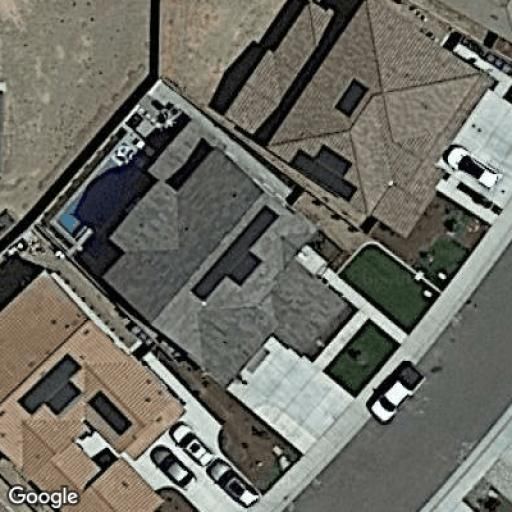solar-panel: (189, 205, 281, 301), (18, 354, 83, 419), (290, 143, 359, 204), (86, 390, 133, 439), (333, 76, 368, 118)
